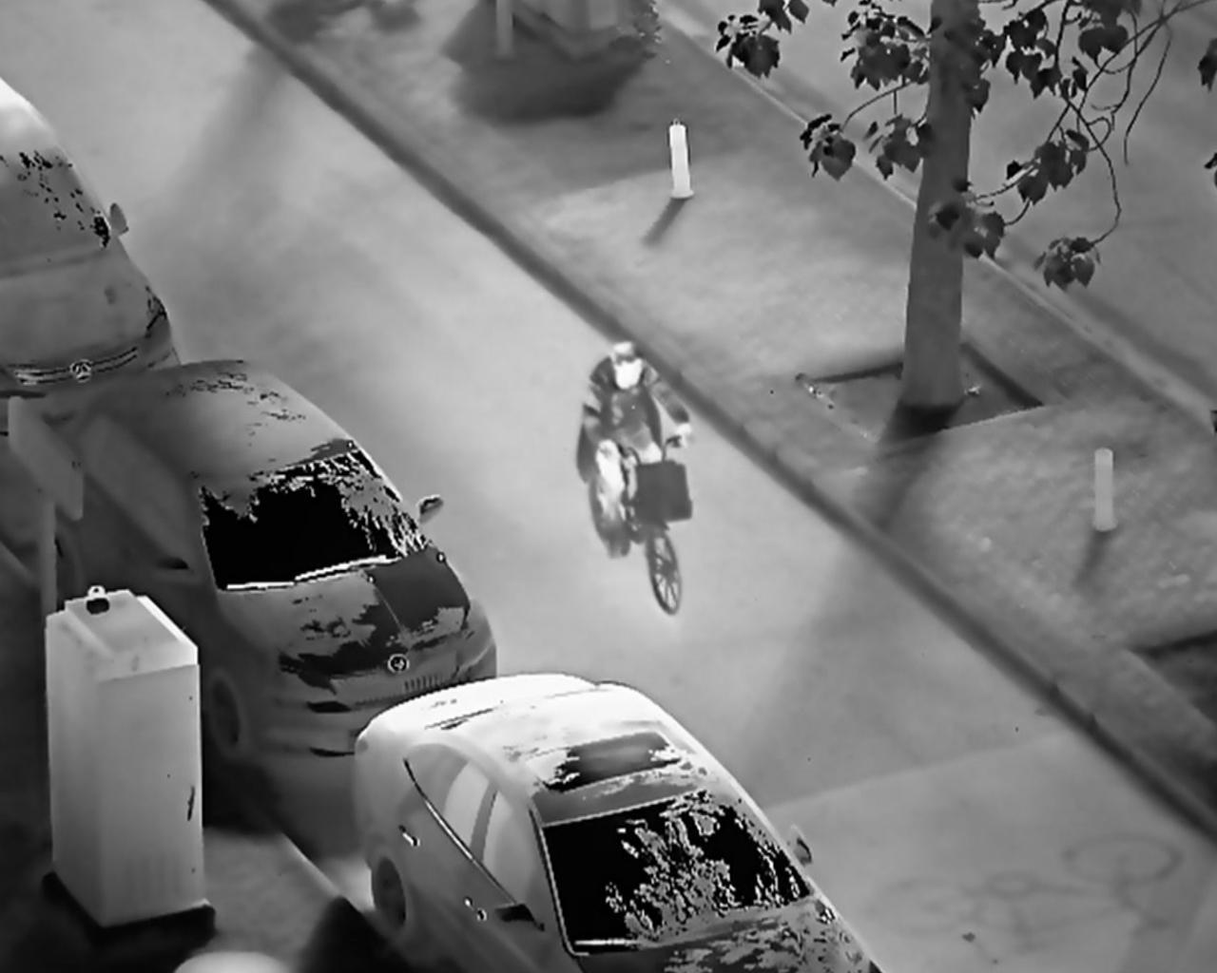person: (572, 338, 696, 568)
